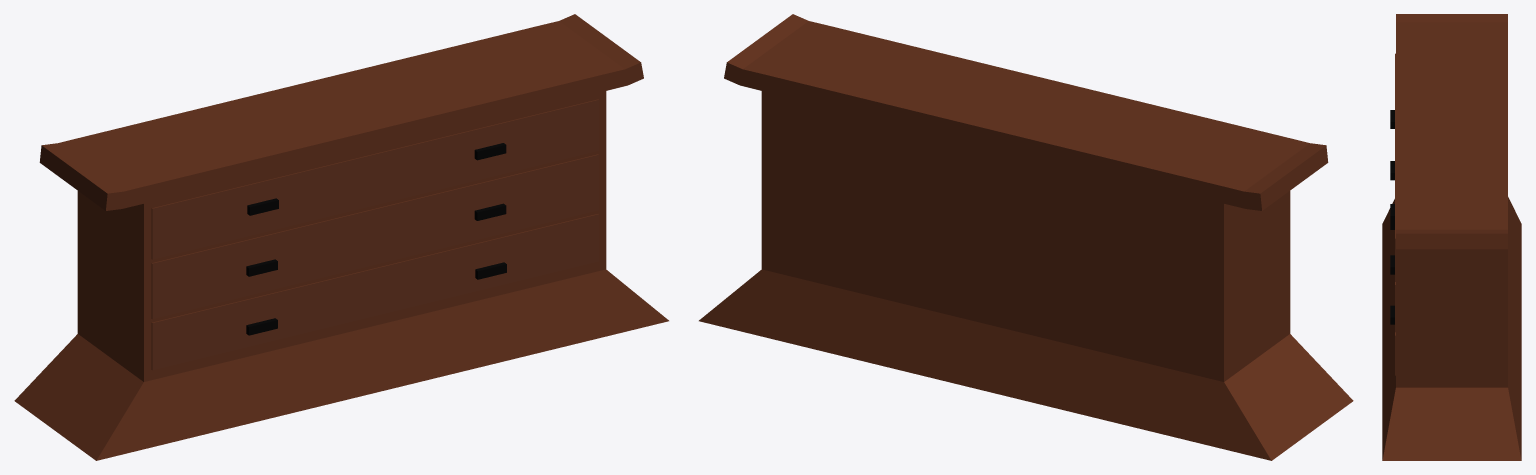
The model's file is bench 2.fbx.
3 renders of one model, left to right at view 1: azimuth 30°, elevation 25°; view 2: azimuth 150°, elevation 25°; view 3: azimuth 270°, elevation 25°, orthographic. The views are drawn at different scales.
Visible parts, largest first — view 1: Cube; view 2: Cube; view 3: Cube.
Boxes of the visible parts, box(x1,y1,x2,y2) form: Cube: box(14, 14, 668, 460); Cube: box(699, 14, 1353, 460); Cube: box(1382, 14, 1521, 460).
Bounding box in the file's own units: 1002 × 430 × 248.
